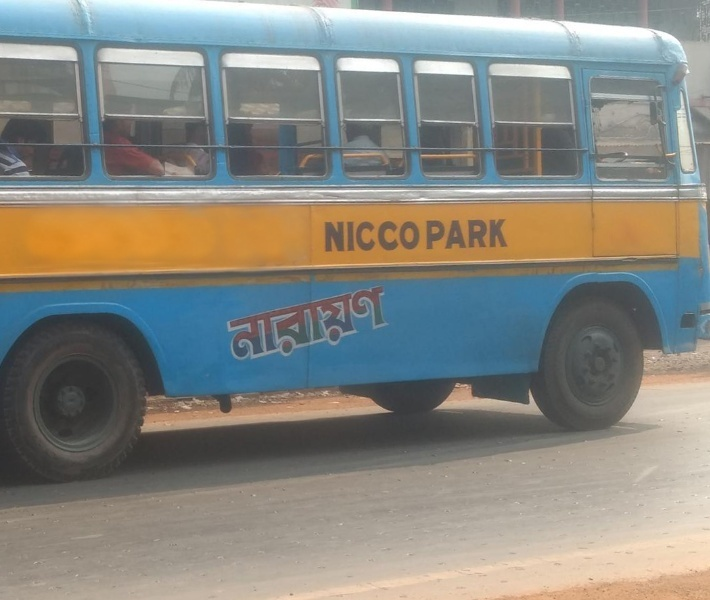text: (225, 281, 240, 372), (241, 281, 256, 372), (257, 281, 272, 372), (273, 281, 288, 372), (289, 281, 304, 372), (305, 281, 320, 372), (321, 281, 336, 372), (337, 281, 352, 372), (353, 281, 368, 372), (369, 281, 384, 372), (385, 281, 395, 372), (337, 216, 352, 253), (353, 216, 368, 253), (369, 216, 384, 253), (385, 216, 400, 253), (401, 216, 416, 253), (417, 216, 432, 253), (433, 216, 448, 253), (449, 216, 464, 253), (465, 216, 480, 253), (481, 216, 496, 253), (497, 216, 511, 253), (323, 216, 336, 253)
